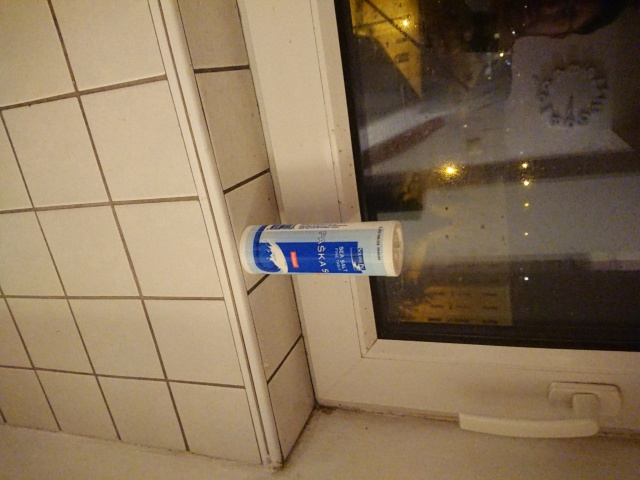Solana Pag Fine Sea Salt 250g: (236, 218, 406, 279)
